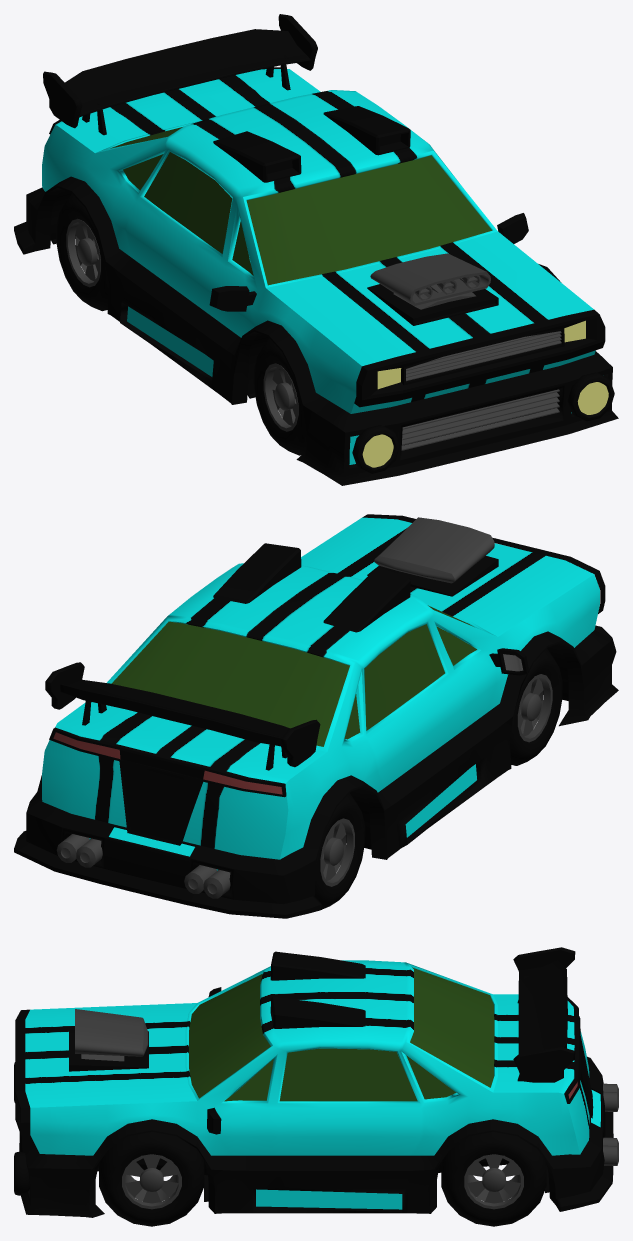
Rendered from Muscle Evolution4 Black TrilineBlackCyan DarkGreen DarkGrey.glb.
The picture shows the model from 3 angles, top to bottom: view 1: azimuth 30°, elevation 25°; view 2: azimuth 150°, elevation 25°; view 3: azimuth 270°, elevation 25°; orthographic projection. The views are drawn at different scales.
Visible parts, largest first — view 1: evo4_sillPartR_f1_dupl, evo4_evo4_polySurface1_f1_dupl, evo4_frontGlass_f1_dupl, evo4_Spoiler4_f1_dupl, evo4_frontBlockGrid_f1_dupl, evo4_glasseBigR_f1_dupl, evo4_engine_f1_dupl, evo4_front_down_grid_f1_dupl, evo4_airtrap_r_f1_dupl, evo4_airtrap_l_f1_dupl, evo4_front_up_grid_f1_dupl, evo4_tire_rf_f1_dupl (+11 smaller); view 2: evo4_sillPartR_f1_dupl, evo4_evo4_polySurface1_f1_dupl, evo4_BackGlassGlass_f1_dupl, evo4_Spoiler4_f1_dupl, evo4_blockBackLights_f1_dupl, evo4_engine_f1_dupl, evo4_glasseBigR_f1_dupl, evo4_airtrap_r_f1_dupl, evo4_airtrap_l_f1_dupl, evo4_tire_rf2_f1_dupl, evo4_tire_rf_f1_dupl, evo4_rim_A_rf_f1_dupl (+9 smaller); view 3: evo4_sillPartR_f1_dupl, evo4_evo4_polySurface1_f1_dupl, evo4_BackGlassGlass_f1_dupl, evo4_Spoiler4_f1_dupl, evo4_glasseBigL_f1_dupl, evo4_frontGlass_f1_dupl, evo4_tire_lf_f1_dupl, evo4_tire_lb_f1_dupl, evo4_engine_f1_dupl, evo4_rim_A_lf_f1_dupl, evo4_rim_A_lb_f1_dupl, evo4_airtrap_l_f1_dupl (+9 smaller).
Boxes of the visible parts, x1=… form: evo4_sillPartR_f1_dupl: x1=42, y1=69, x2=595, y2=464; evo4_evo4_polySurface1_f1_dupl: x1=14, y1=176, x2=618, y2=485; evo4_frontGlass_f1_dupl: x1=246, y1=155, x2=491, y2=285; evo4_Spoiler4_f1_dupl: x1=43, y1=14, x2=317, y2=135; evo4_frontBlockGrid_f1_dupl: x1=354, y1=309, x2=605, y2=407; evo4_glasseBigR_f1_dupl: x1=144, y1=152, x2=232, y2=253; evo4_engine_f1_dupl: x1=370, y1=253, x2=490, y2=309; evo4_front_down_grid_f1_dupl: x1=401, y1=389, x2=559, y2=450; evo4_airtrap_r_f1_dupl: x1=213, y1=131, x2=301, y2=182; evo4_airtrap_l_f1_dupl: x1=323, y1=106, x2=410, y2=155; evo4_front_up_grid_f1_dupl: x1=406, y1=331, x2=561, y2=381; evo4_tire_rf_f1_dupl: x1=56, y1=194, x2=109, y2=311; evo4_sillPartR_f1_dupl: x1=42, y1=517, x2=599, y2=870; evo4_evo4_polySurface1_f1_dupl: x1=14, y1=630, x2=618, y2=918; evo4_BackGlassGlass_f1_dupl: x1=111, y1=621, x2=349, y2=746; evo4_Spoiler4_f1_dupl: x1=45, y1=662, x2=320, y2=770; evo4_blockBackLights_f1_dupl: x1=49, y1=727, x2=286, y2=845; evo4_engine_f1_dupl: x1=374, y1=517, x2=494, y2=583; evo4_glasseBigR_f1_dupl: x1=364, y1=624, x2=444, y2=730; evo4_airtrap_r_f1_dupl: x1=323, y1=567, x2=410, y2=632; evo4_airtrap_l_f1_dupl: x1=213, y1=543, x2=301, y2=603; evo4_tire_rf2_f1_dupl: x1=509, y1=648, x2=562, y2=765; evo4_tire_rf_f1_dupl: x1=315, y1=793, x2=365, y2=909; evo4_rim_A_rf_f1_dupl: x1=517, y1=674, x2=552, y2=742; evo4_sillPartR_f1_dupl: x1=25, y1=960, x2=600, y2=1209; evo4_evo4_polySurface1_f1_dupl: x1=19, y1=1056, x2=613, y2=1217; evo4_BackGlassGlass_f1_dupl: x1=410, y1=967, x2=494, y2=1087; evo4_Spoiler4_f1_dupl: x1=513, y1=947, x2=575, y2=1082; evo4_glasseBigL_f1_dupl: x1=279, y1=1048, x2=417, y2=1101; evo4_frontGlass_f1_dupl: x1=189, y1=974, x2=270, y2=1098; evo4_tire_lf_f1_dupl: x1=99, y1=1132, x2=204, y2=1226; evo4_tire_lb_f1_dupl: x1=441, y1=1132, x2=546, y2=1226; evo4_engine_f1_dupl: x1=75, y1=1009, x2=148, y2=1061; evo4_rim_A_lf_f1_dupl: x1=122, y1=1154, x2=181, y2=1209; evo4_rim_A_lb_f1_dupl: x1=464, y1=1154, x2=523, y2=1209; evo4_airtrap_l_f1_dupl: x1=270, y1=997, x2=365, y2=1028.
Bounding box in the file's own units: 177 × 120 × 337.
Materials: 8 (1 with a texture image).
